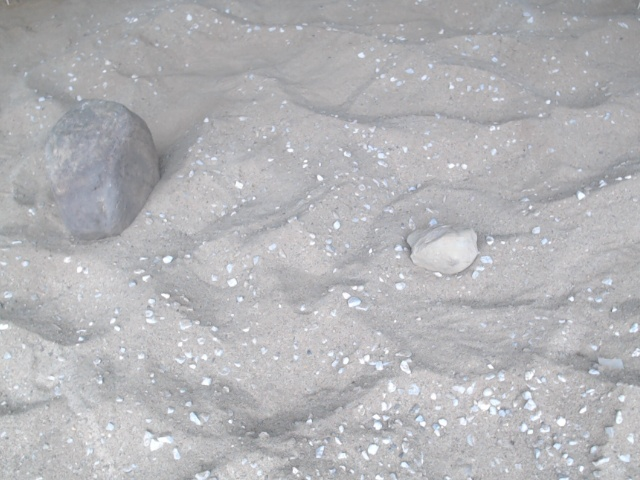rock: (5, 94, 169, 248), (400, 221, 484, 282)
